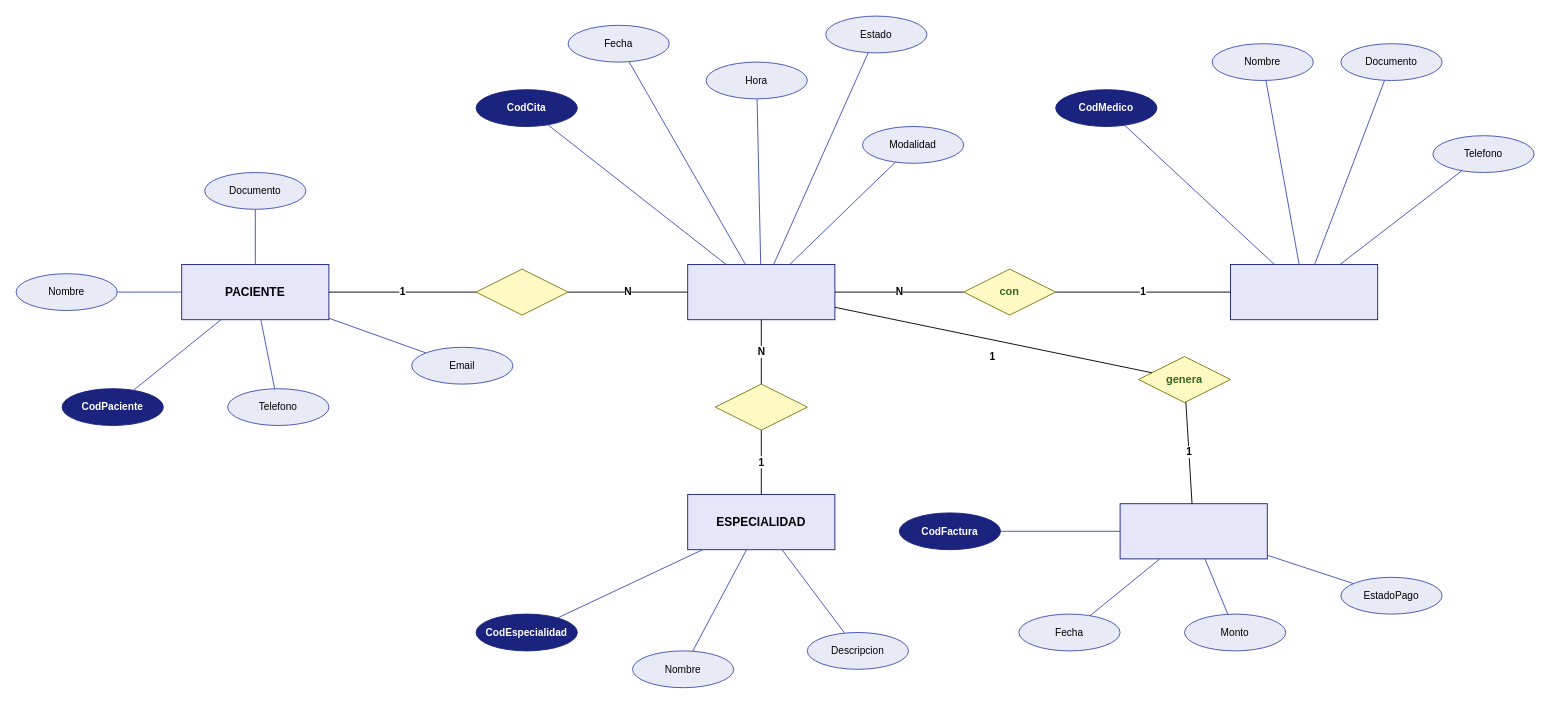
Image size: 1550x704. Some labels were removed from this diagram. The centre of each missing label's shape, as x and y in pixels:
agenda: the point at 521,291
CITA: the point at 761,292
de: the point at 760,406
FACTURA: the point at 1193,531
MEDICO: the point at 1304,292
